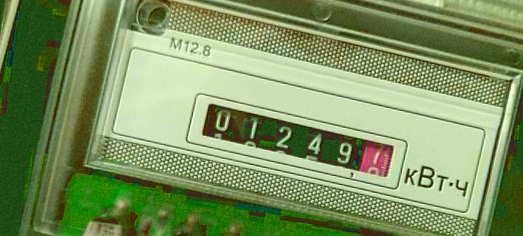0: (212, 105, 233, 134)
1: (243, 113, 261, 141)
2: (272, 123, 293, 151)
4: (305, 129, 324, 156)
7: (368, 139, 387, 167)
9: (333, 138, 353, 166)
screen: (180, 90, 413, 194)
